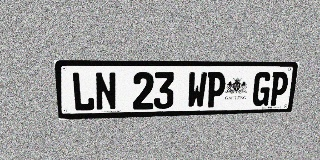2: (133, 72, 154, 110)
3: (154, 72, 174, 109)
G: (251, 72, 272, 106)
L: (71, 72, 95, 111)
N: (94, 72, 117, 111)
P: (205, 72, 226, 108), (268, 72, 290, 106)
W: (187, 72, 207, 108)
